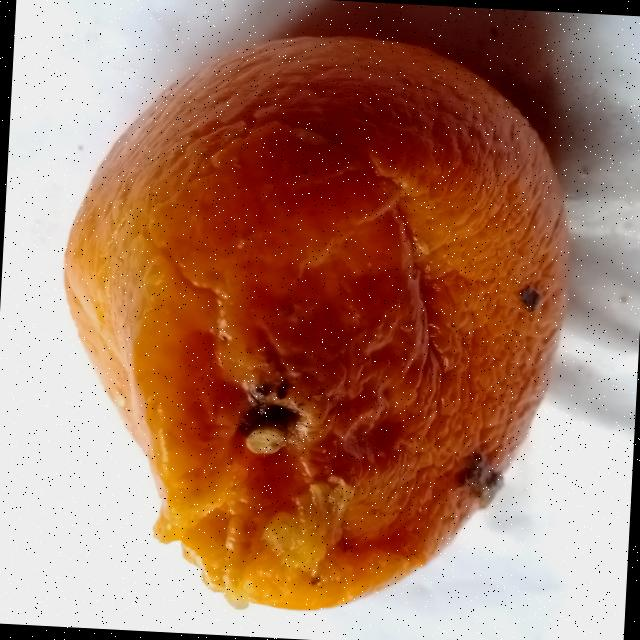Rotten: (44, 20, 585, 626)
